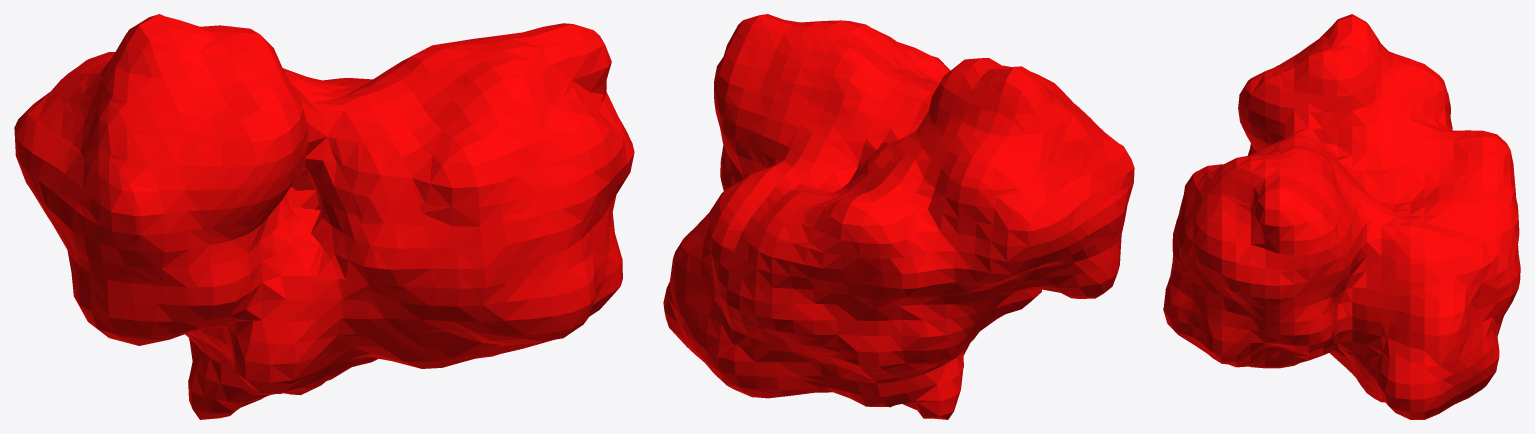
Rendered from murD_coarse.dae.
3 views of the same model, side by side, from view 1: azimuth 30°, elevation 25°; view 2: azimuth 150°, elevation 25°; view 3: azimuth 270°, elevation 25° (orthographic). The views are drawn at different scales.
Parts seen in each view (by area): view 1: murD; view 2: murD; view 3: murD.
Boxes of the visible parts, <box> form: murD: <box>14,14,634,419</box>; murD: <box>663,14,1134,419</box>; murD: <box>1163,14,1520,419</box>.
Size of the model in its own units: 71.01 by 57.54 by 59.15.
